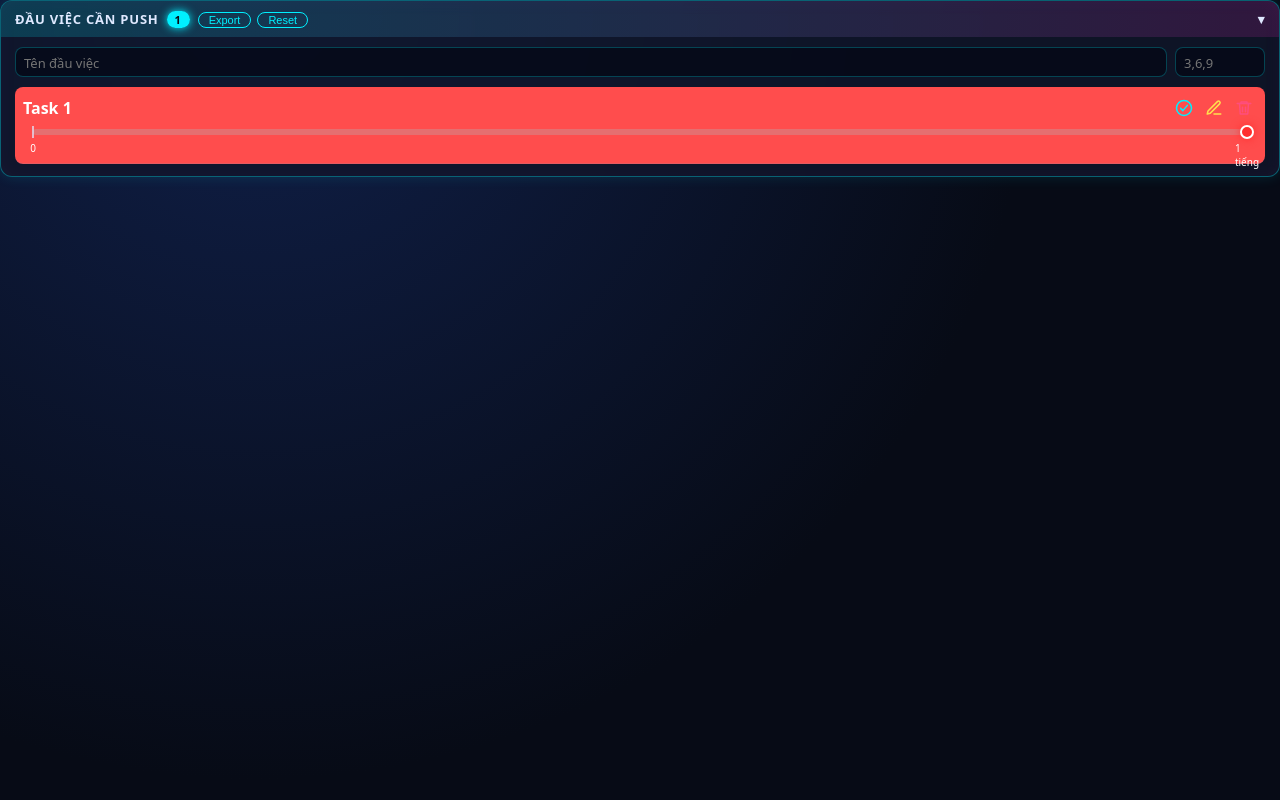
it: PushTaskPanel › xác nhận Reset gọi resetTasksStart và hiển thị danh sách đã đặt lại
Expected: the text "Task 1" is shown, [23,97,72,119]
Click the button "Reset" at x=283, y=20, box [257,12,308,28]
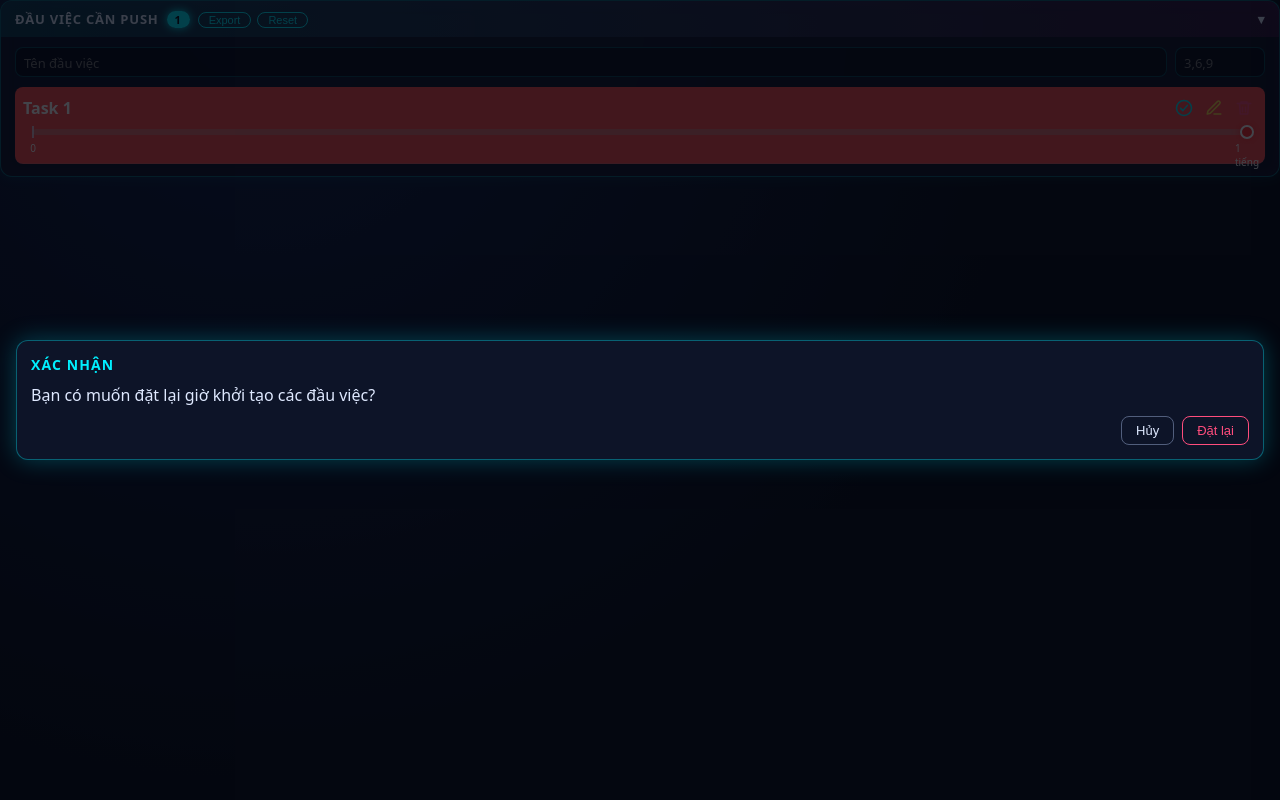
Click the button "Đặt lại" at x=1216, y=430, box [1182,416,1249,445]
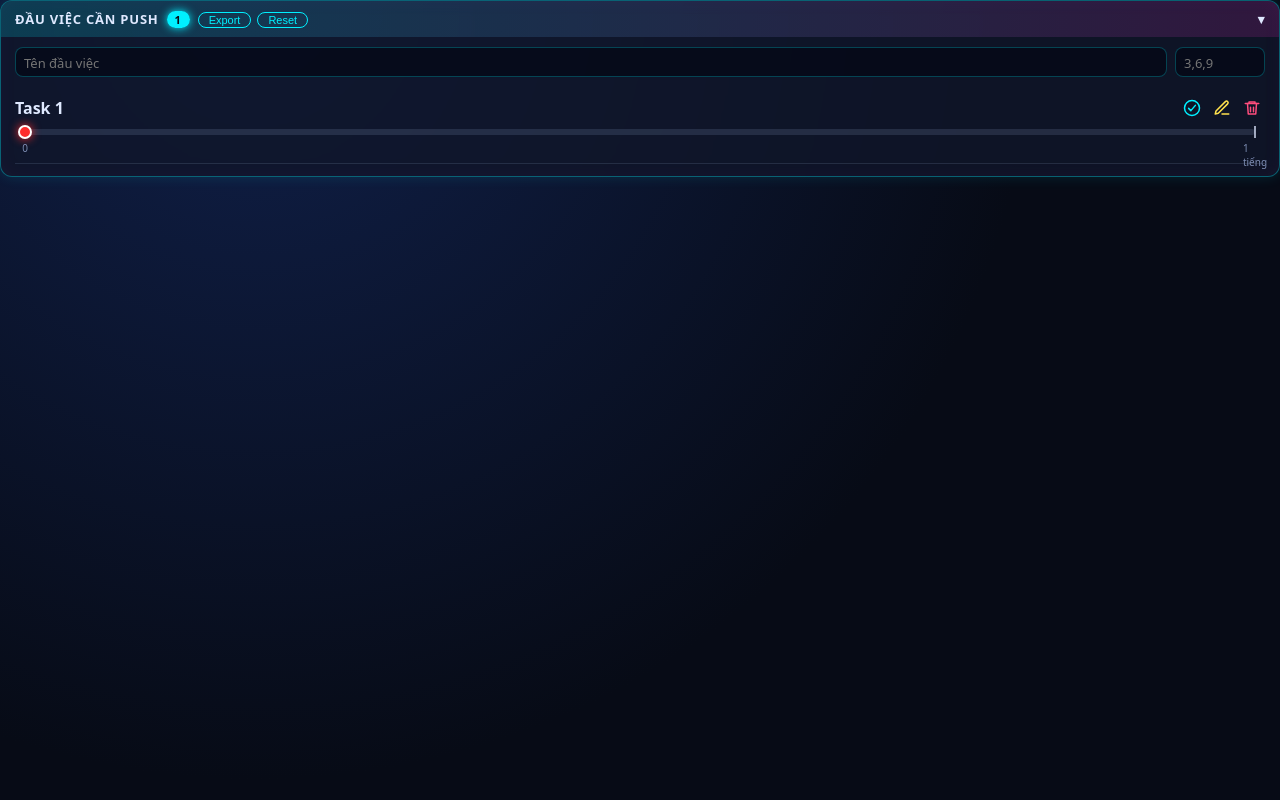
Result: the dialog is gone
